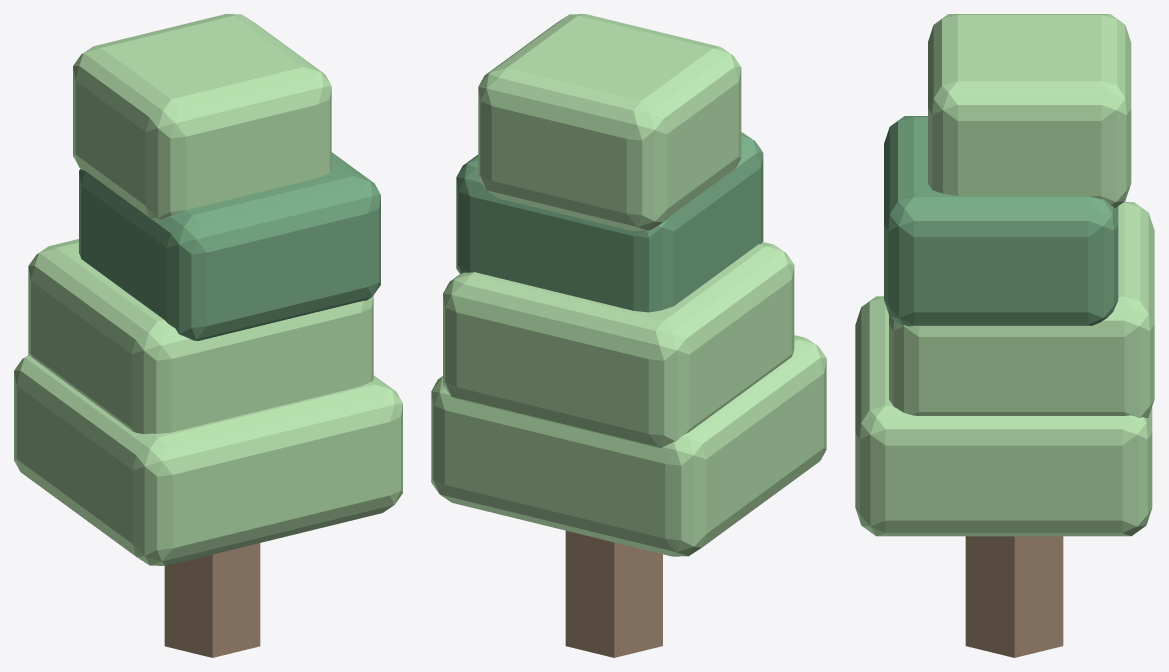
Rendered from tree_c.glb.
3 renders of one model, left to right at view 1: azimuth 30°, elevation 25°; view 2: azimuth 150°, elevation 25°; view 3: azimuth 270°, elevation 25°, orthographic. The views are drawn at different scales.
Visible parts, largest first — view 1: canopy_0_m0, canopy_3_m0, canopy_2_m0, canopy_1_m0, trunk_m0; view 2: canopy_1_m0, canopy_3_m0, canopy_0_m0, canopy_2_m0, trunk_m0; view 3: canopy_0_m0, canopy_3_m0, canopy_2_m0, canopy_1_m0, trunk_m0.
Part boxes in pixels (x1,y1,x2,y2): canopy_0_m0: [14, 354, 402, 565]; canopy_3_m0: [73, 14, 331, 219]; canopy_2_m0: [79, 152, 380, 340]; canopy_1_m0: [28, 239, 373, 434]; trunk_m0: [164, 543, 260, 657]; canopy_1_m0: [443, 242, 794, 447]; canopy_3_m0: [478, 14, 741, 231]; canopy_0_m0: [431, 335, 826, 556]; canopy_2_m0: [456, 132, 763, 312]; trunk_m0: [565, 530, 662, 657]; canopy_0_m0: [855, 296, 1152, 536]; canopy_3_m0: [928, 14, 1131, 208]; canopy_2_m0: [884, 116, 1118, 326]; canopy_1_m0: [889, 202, 1154, 417]; trunk_m0: [965, 536, 1063, 657].
Bounding box in the file's own units: 1.6 × 3.26 × 1.51.
